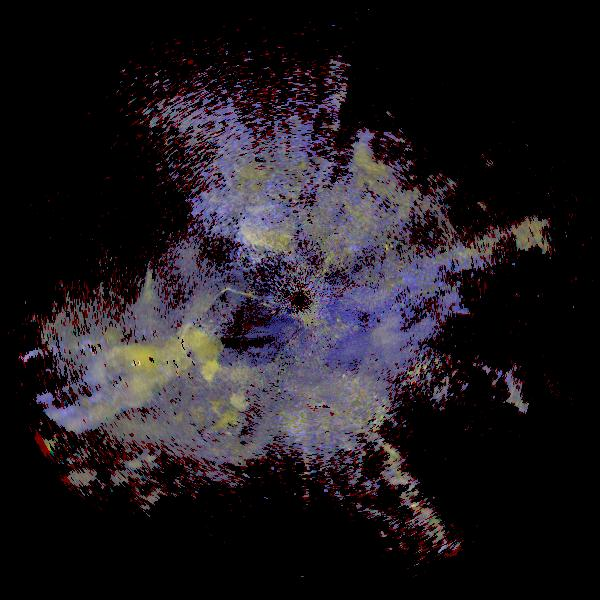roost: (31, 349, 124, 442), (130, 316, 223, 409), (88, 342, 163, 417), (351, 123, 408, 180)
